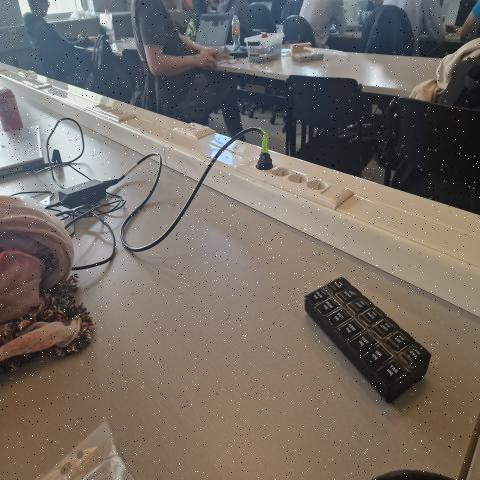Pill-box: (295, 251, 446, 442)
